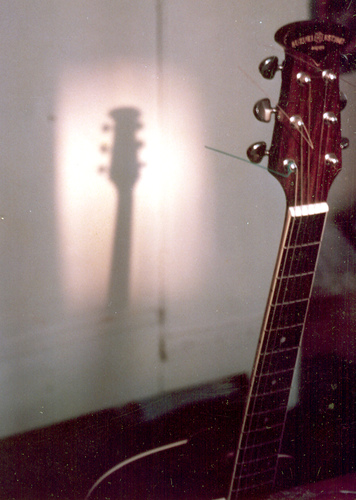guitar: (85, 21, 348, 500)
